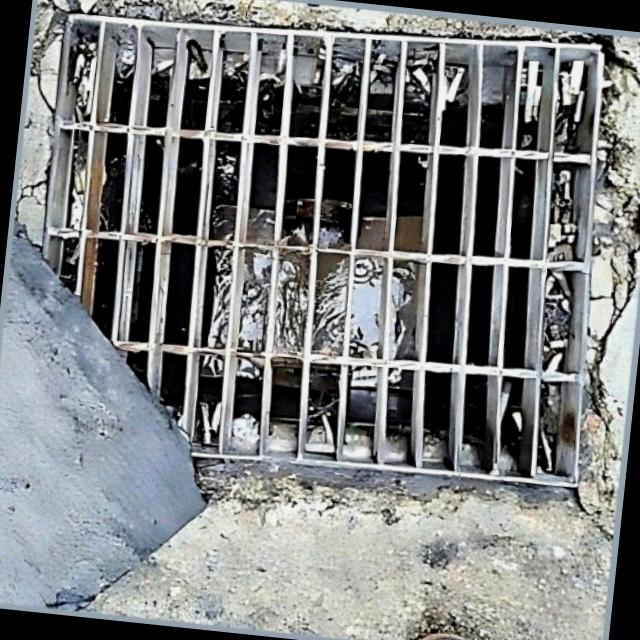drain_area: (77, 46, 548, 437)
drain_full: (25, 18, 601, 484)
